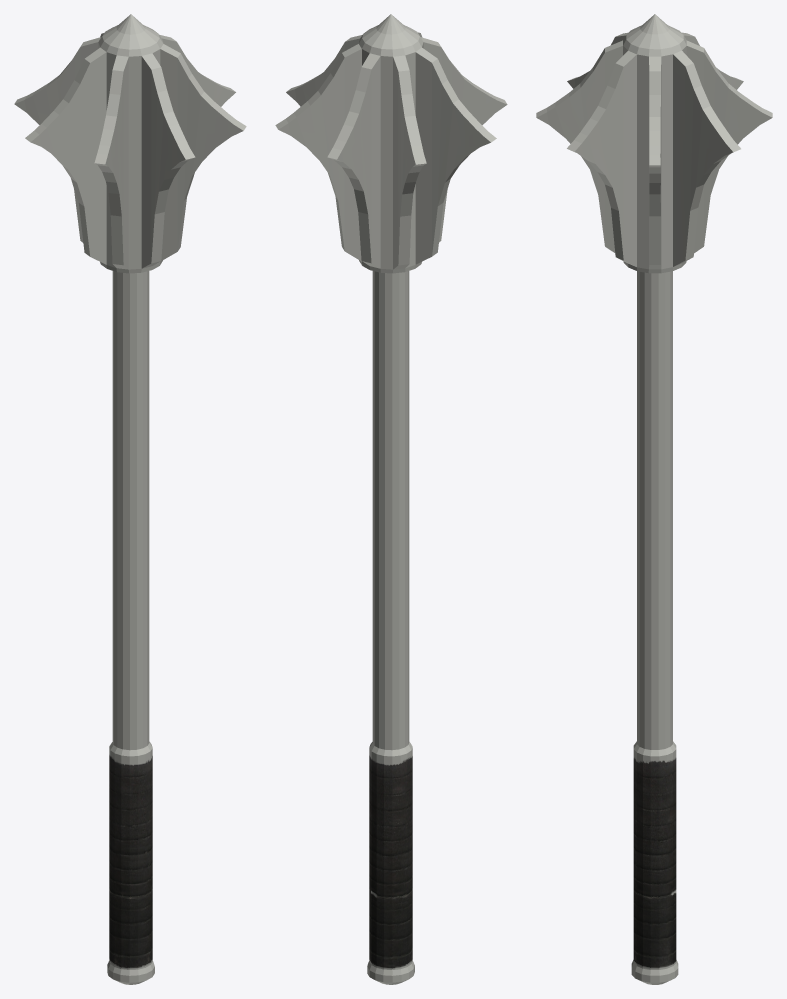
File: mace.obj
3 views of the same model, side by side, from view 1: azimuth 30°, elevation 25°; view 2: azimuth 150°, elevation 25°; view 3: azimuth 270°, elevation 25° (orthographic).
Parts seen in each view (by area): view 1: Mesh_ZBrush_defualt_group; view 2: Mesh_ZBrush_defualt_group; view 3: Mesh_ZBrush_defualt_group.
Part boxes in pixels (x1,y1,x2,y2): Mesh_ZBrush_defualt_group: (14,14,246,984); Mesh_ZBrush_defualt_group: (275,14,507,984); Mesh_ZBrush_defualt_group: (536,14,772,984).
Bounding box in the file's own units: 2.76 × 12.37 × 2.75.
